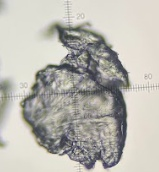microplastic: (19, 22, 131, 170), (22, 63, 127, 170)
